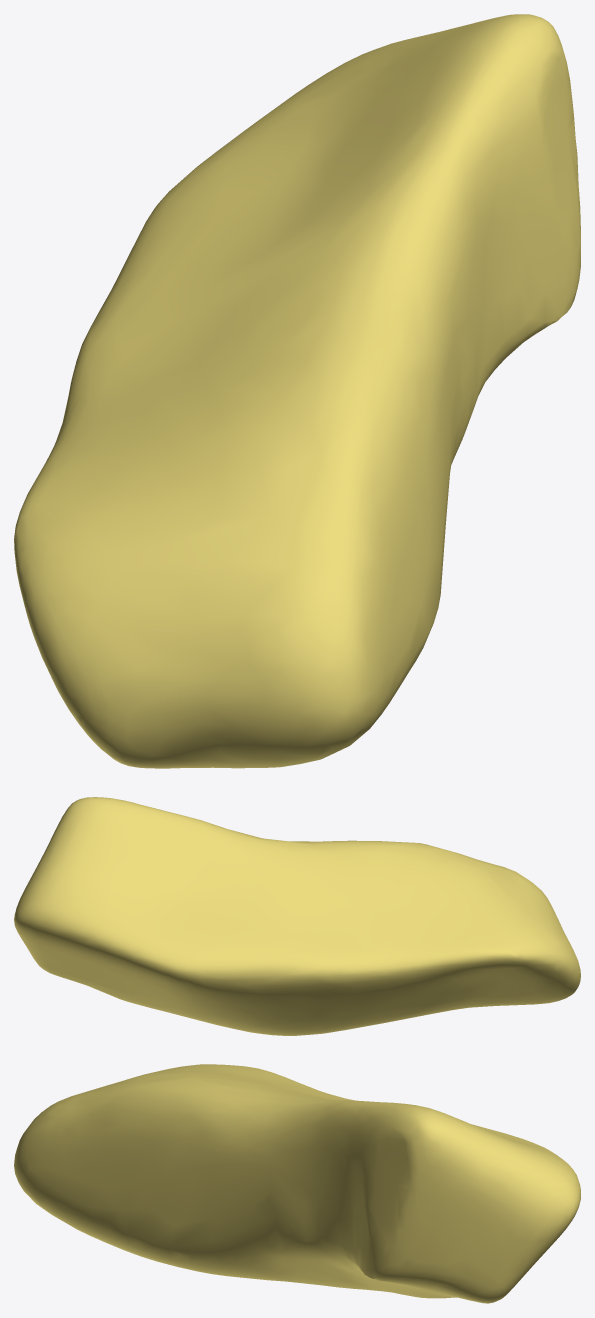
The model's file is posterior-quadrangular-lobule-r.glb.
3 renders of one model, top to bottom at view 1: azimuth 30°, elevation 25°; view 2: azimuth 150°, elevation 25°; view 3: azimuth 270°, elevation 25°, orthographic. The views are drawn at different scales.
Parts seen in each view (by area): view 1: Posterior quadrangular lobule.r; view 2: Posterior quadrangular lobule.r; view 3: Posterior quadrangular lobule.r.
Boxes of the visible parts, left/top/right/bottom form: Posterior quadrangular lobule.r: left=14, top=14, right=580, bottom=768; Posterior quadrangular lobule.r: left=14, top=797, right=580, bottom=1035; Posterior quadrangular lobule.r: left=14, top=1064, right=580, bottom=1303.
Size of the model in its own units: 0.0423 by 0.0233 by 0.0451.
